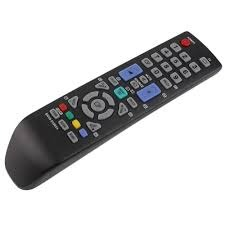remote control: (4, 23, 222, 191)
